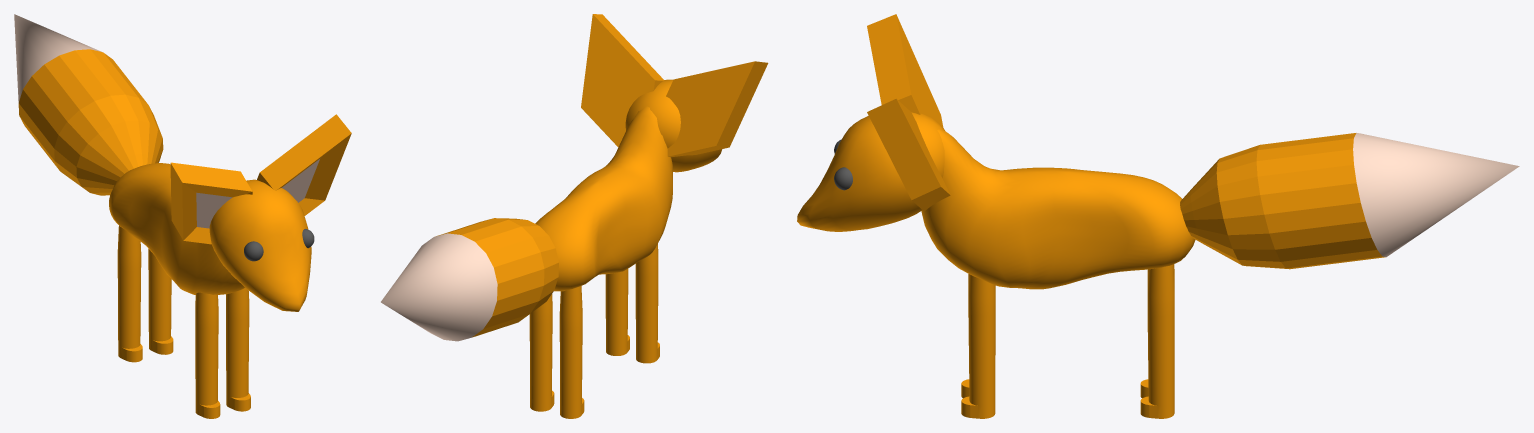
File: Fox.fbx
3 views of the same model, side by side, from view 1: azimuth 30°, elevation 25°; view 2: azimuth 150°, elevation 25°; view 3: azimuth 270°, elevation 25° (orthographic). The views are drawn at different scales.
Visible parts, largest first — view 1: pCone1, pSphere22, pSphere21, pCube4, pCube3, pCylinder25, pCylinder24, pCylinder23, pCylinder26, pSphere24; view 2: pCone1, pSphere21, pCube3, pCube4, pCylinder25, pCylinder24, pCylinder26, pSphere22, pCylinder23; view 3: pCone1, pSphere21, pSphere22, pCylinder26, pCube4, pCube3, pCylinder23.
Part boxes in pixels (box(x1,y1,x2,y2)): pCone1: box(14, 14, 163, 195); pSphere22: box(209, 179, 311, 311); pSphere21: box(109, 163, 244, 294); pCube4: box(257, 114, 351, 215); pCube3: box(170, 162, 252, 244); pCylinder25: box(117, 225, 142, 362); pCylinder24: box(195, 292, 220, 418); pCylinder23: box(226, 287, 250, 411); pCylinder26: box(148, 249, 173, 354); pSphere24: box(244, 241, 263, 261); pCone1: box(381, 218, 558, 341); pSphere21: box(535, 106, 672, 291); pCube3: box(666, 61, 768, 157); pCube4: box(581, 14, 664, 147); pCylinder25: box(559, 286, 584, 418); pCylinder24: box(635, 244, 659, 363); pCylinder26: box(529, 294, 554, 411); pSphere22: box(625, 79, 722, 172); pCylinder23: box(605, 269, 629, 355); pCone1: box(1180, 133, 1519, 269); pSphere21: box(921, 129, 1195, 289); pSphere22: box(797, 112, 944, 231); pCylinder26: box(1140, 264, 1174, 418); pCube4: box(867, 98, 950, 211); pCube3: box(867, 14, 943, 127); pCylinder23: box(961, 274, 995, 418).
Bounding box in the file's own units: 1.9 × 3.24 × 6.07.
